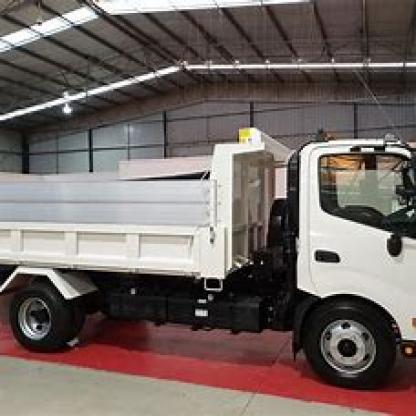dump_truck: (0, 131, 414, 392)
